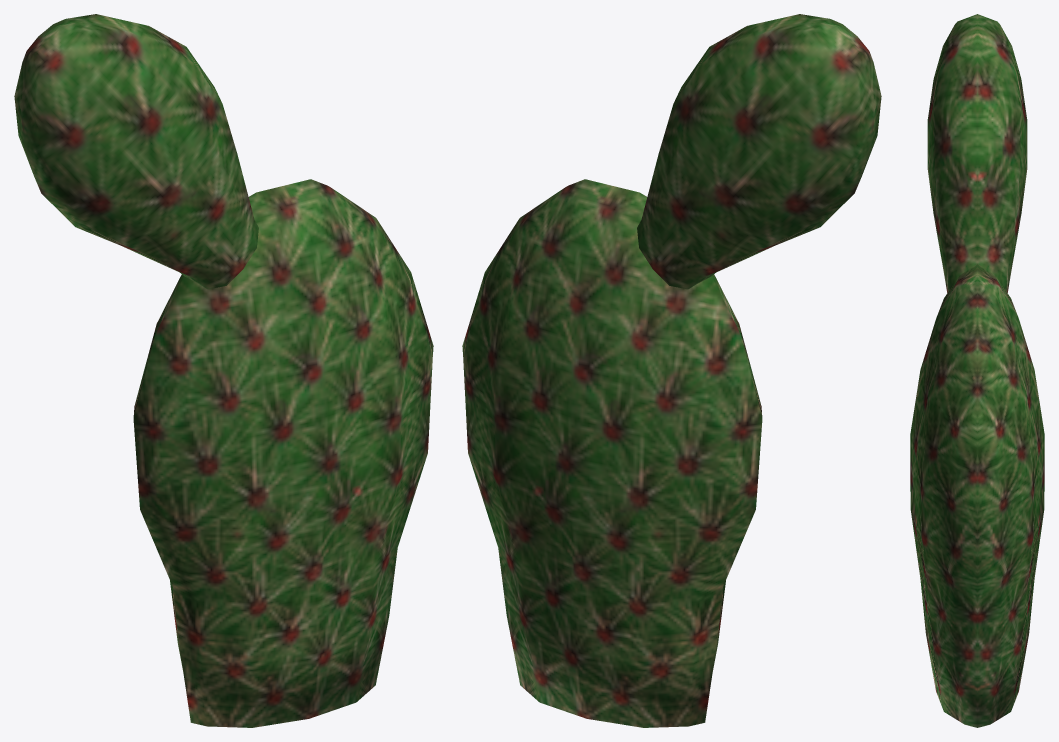
The model's file is cactus-06.fbx.
3 views of the same model, side by side, from view 1: azimuth 30°, elevation 25°; view 2: azimuth 150°, elevation 25°; view 3: azimuth 270°, elevation 25° (orthographic). The views are drawn at different scales.
Visible parts, largest first — view 1: Sphere.004_Sphere.001; view 2: Sphere.004_Sphere.001; view 3: Sphere.004_Sphere.001.
Part boxes in pixels (x1,y1,x2,y2): Sphere.004_Sphere.001: [14, 14, 433, 727]; Sphere.004_Sphere.001: [462, 14, 881, 727]; Sphere.004_Sphere.001: [910, 14, 1044, 727].
Size of the model in its own units: 0.5473 by 0.9229 by 0.1902.
